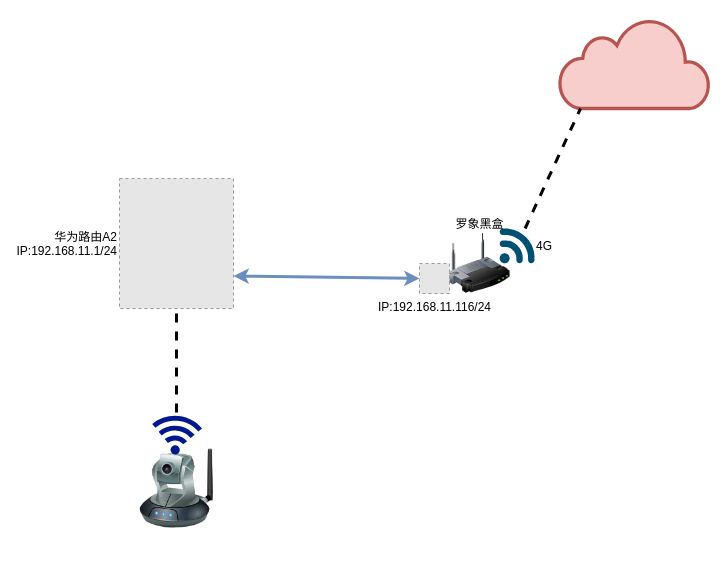
Some shapes in this 728 by 581 pixel diagram are drawn without their labels. Grey dashed boxes stand in for pictures. The box of each missing label's shape, as (x1, y1, x2, y2) in pixels:
HIKVISION布控球 IP:192.168.11.221/24: (136, 448, 216, 528)
互联网: (558, 17, 710, 109)
